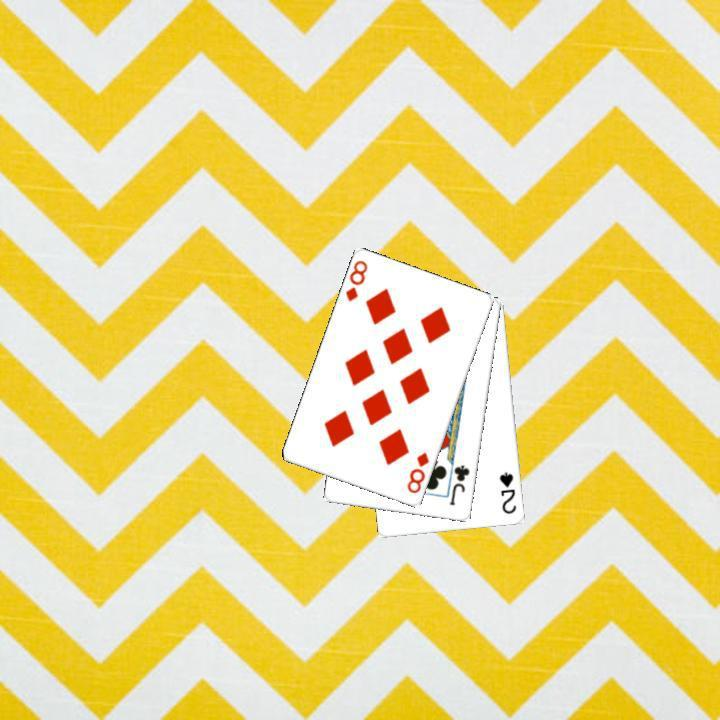2: (496, 468, 519, 516)
8: (402, 448, 431, 496), (341, 256, 370, 304)
J: (445, 461, 472, 508)
